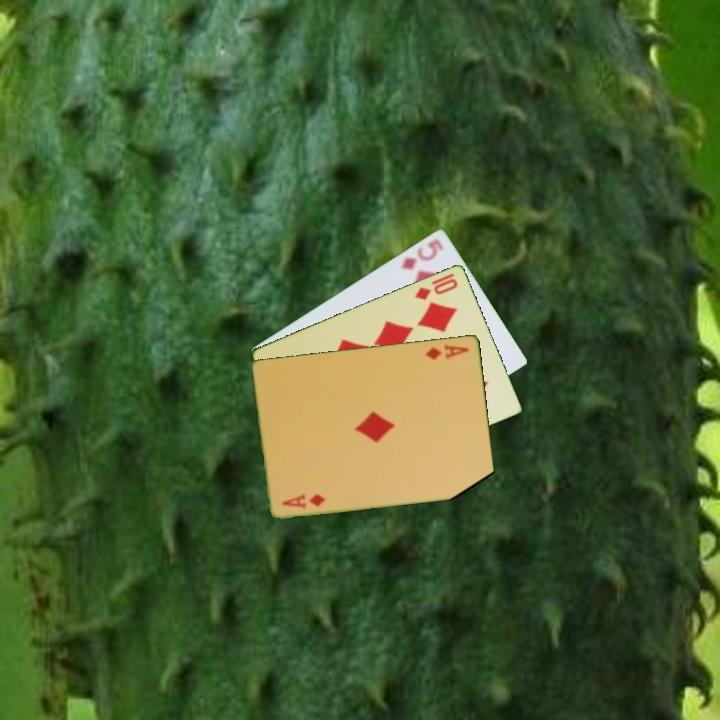10d: (411, 269, 461, 303)
5d: (397, 235, 446, 273)
Ad: (422, 340, 472, 362), (278, 490, 329, 511)
